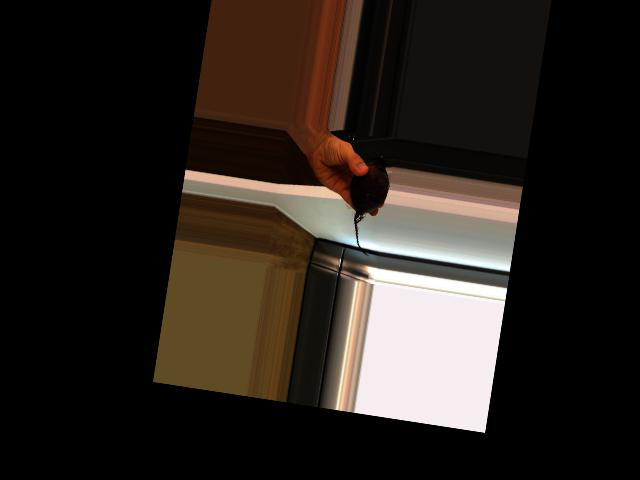beet: (340, 148, 394, 257)
